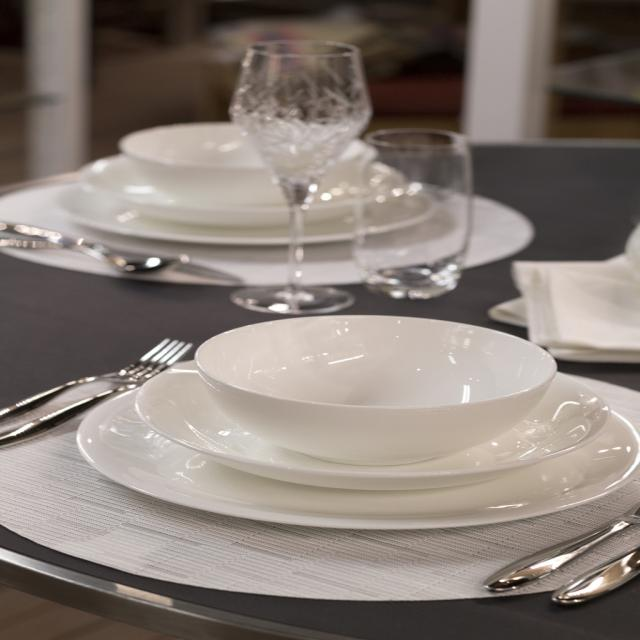non-organic waste: (29, 317, 640, 627), (0, 108, 535, 280)
